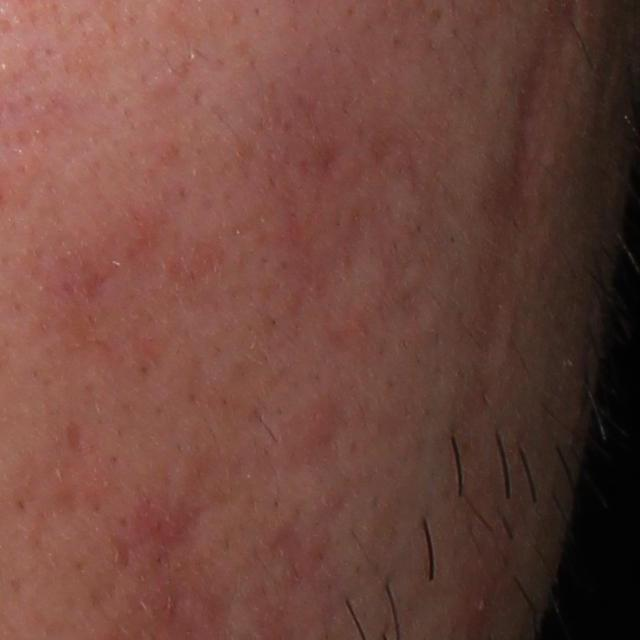atrophic_scar: (66, 422, 86, 458)
